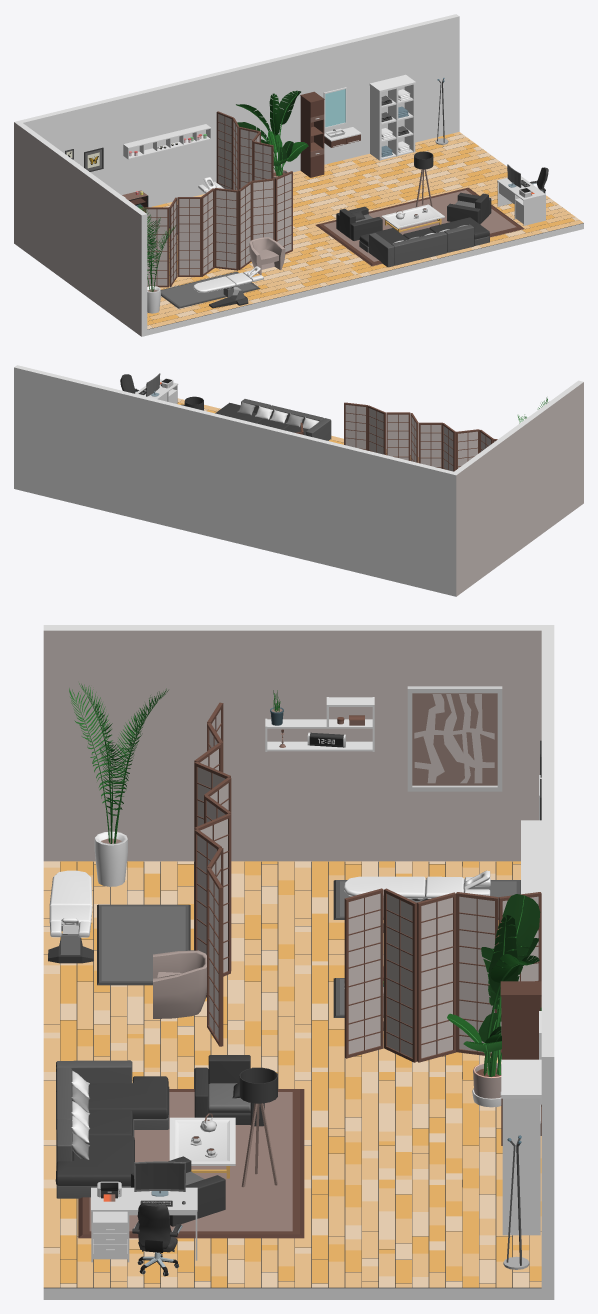
The model's file is room_5.glb.
3 views of the same model, one above another, from view 1: azimuth 30°, elevation 25°; view 2: azimuth 150°, elevation 25°; view 3: azimuth 270°, elevation 25° (orthographic). The views are drawn at different scales.
Parts seen in each view (by area): view 1: Walls_006.028, Walls_166.002, shelf_071.002, floor_015.010, floor_015.012, Walls_011.005, shelf_071.001, floor_015.013, sofa_028.003, shelf_071.003, shelf_072.001, carpet_008.001 (+18 smaller); view 2: Walls_006.028, Walls_166.002, shelf_071.002, sofa_028.003, shelf_071.001, office_table_040.001; view 3: Walls_166.002, shelf_071.003, floor_015.010, floor_015.012, floor_015.013, Walls_011.005, carpet_008.001, floor_015.009, floor_015.015, sofa_028.003, picture_056.001, Walls_006.028 (+25 smaller).
Boxes of the visible parts, x1,y1,x2,y2 form: Walls_006.028: (20,14,459,207); Walls_166.002: (14,120,147,336); shelf_071.002: (201,171,292,276); floor_015.010: (349,132,507,202); floor_015.012: (293,159,407,230); Walls_011.005: (147,134,583,335); shelf_071.001: (140,197,201,287); floor_015.013: (210,231,362,303); sofa_028.003: (359,217,489,267); shelf_071.003: (216,111,273,190); shelf_072.001: (369,74,415,160); carpet_008.001: (315,187,524,266); Walls_006.028: (14,365,453,595); Walls_166.002: (450,380,583,596); shelf_071.002: (344,402,442,468); sofa_028.003: (215,399,331,440); shelf_071.001: (442,423,497,471); office_table_040.001: (135,373,178,403); Walls_166.002: (43,625,554,861); shelf_071.003: (344,888,541,1062); floor_015.010: (295,1179,541,1287); floor_015.012: (295,1072,541,1179); floor_015.013: (43,965,294,1071); Walls_011.005: (43,862,541,1299); carpet_008.001: (78,1089,304,1238); floor_015.009: (43,1179,294,1287); floor_015.015: (43,861,294,965); sofa_028.003: (55,1060,169,1198); picture_056.001: (407,686,502,791); Walls_006.028: (541,630,554,1299).
Bounding box in the file's own units: 16 × 4.2 × 8.
Materials: 1 (1 with a texture image).
